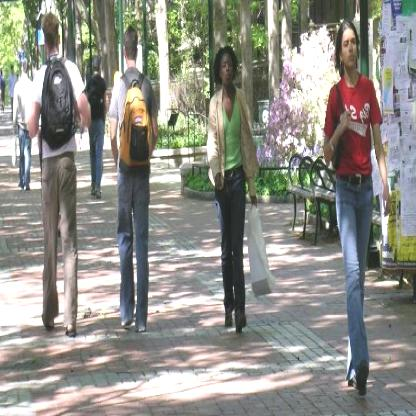ped: (325, 20, 391, 396), (29, 13, 92, 335), (110, 27, 160, 331), (208, 47, 259, 334), (86, 57, 111, 196), (15, 57, 34, 190)
